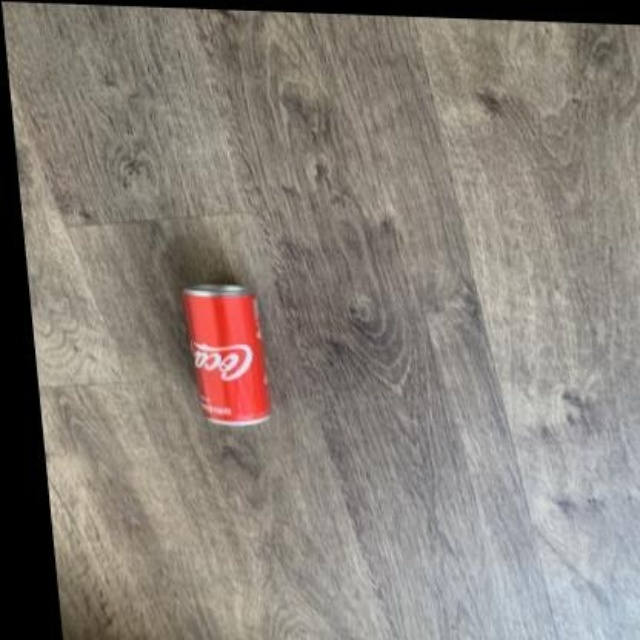trash: (183, 285, 269, 425)
